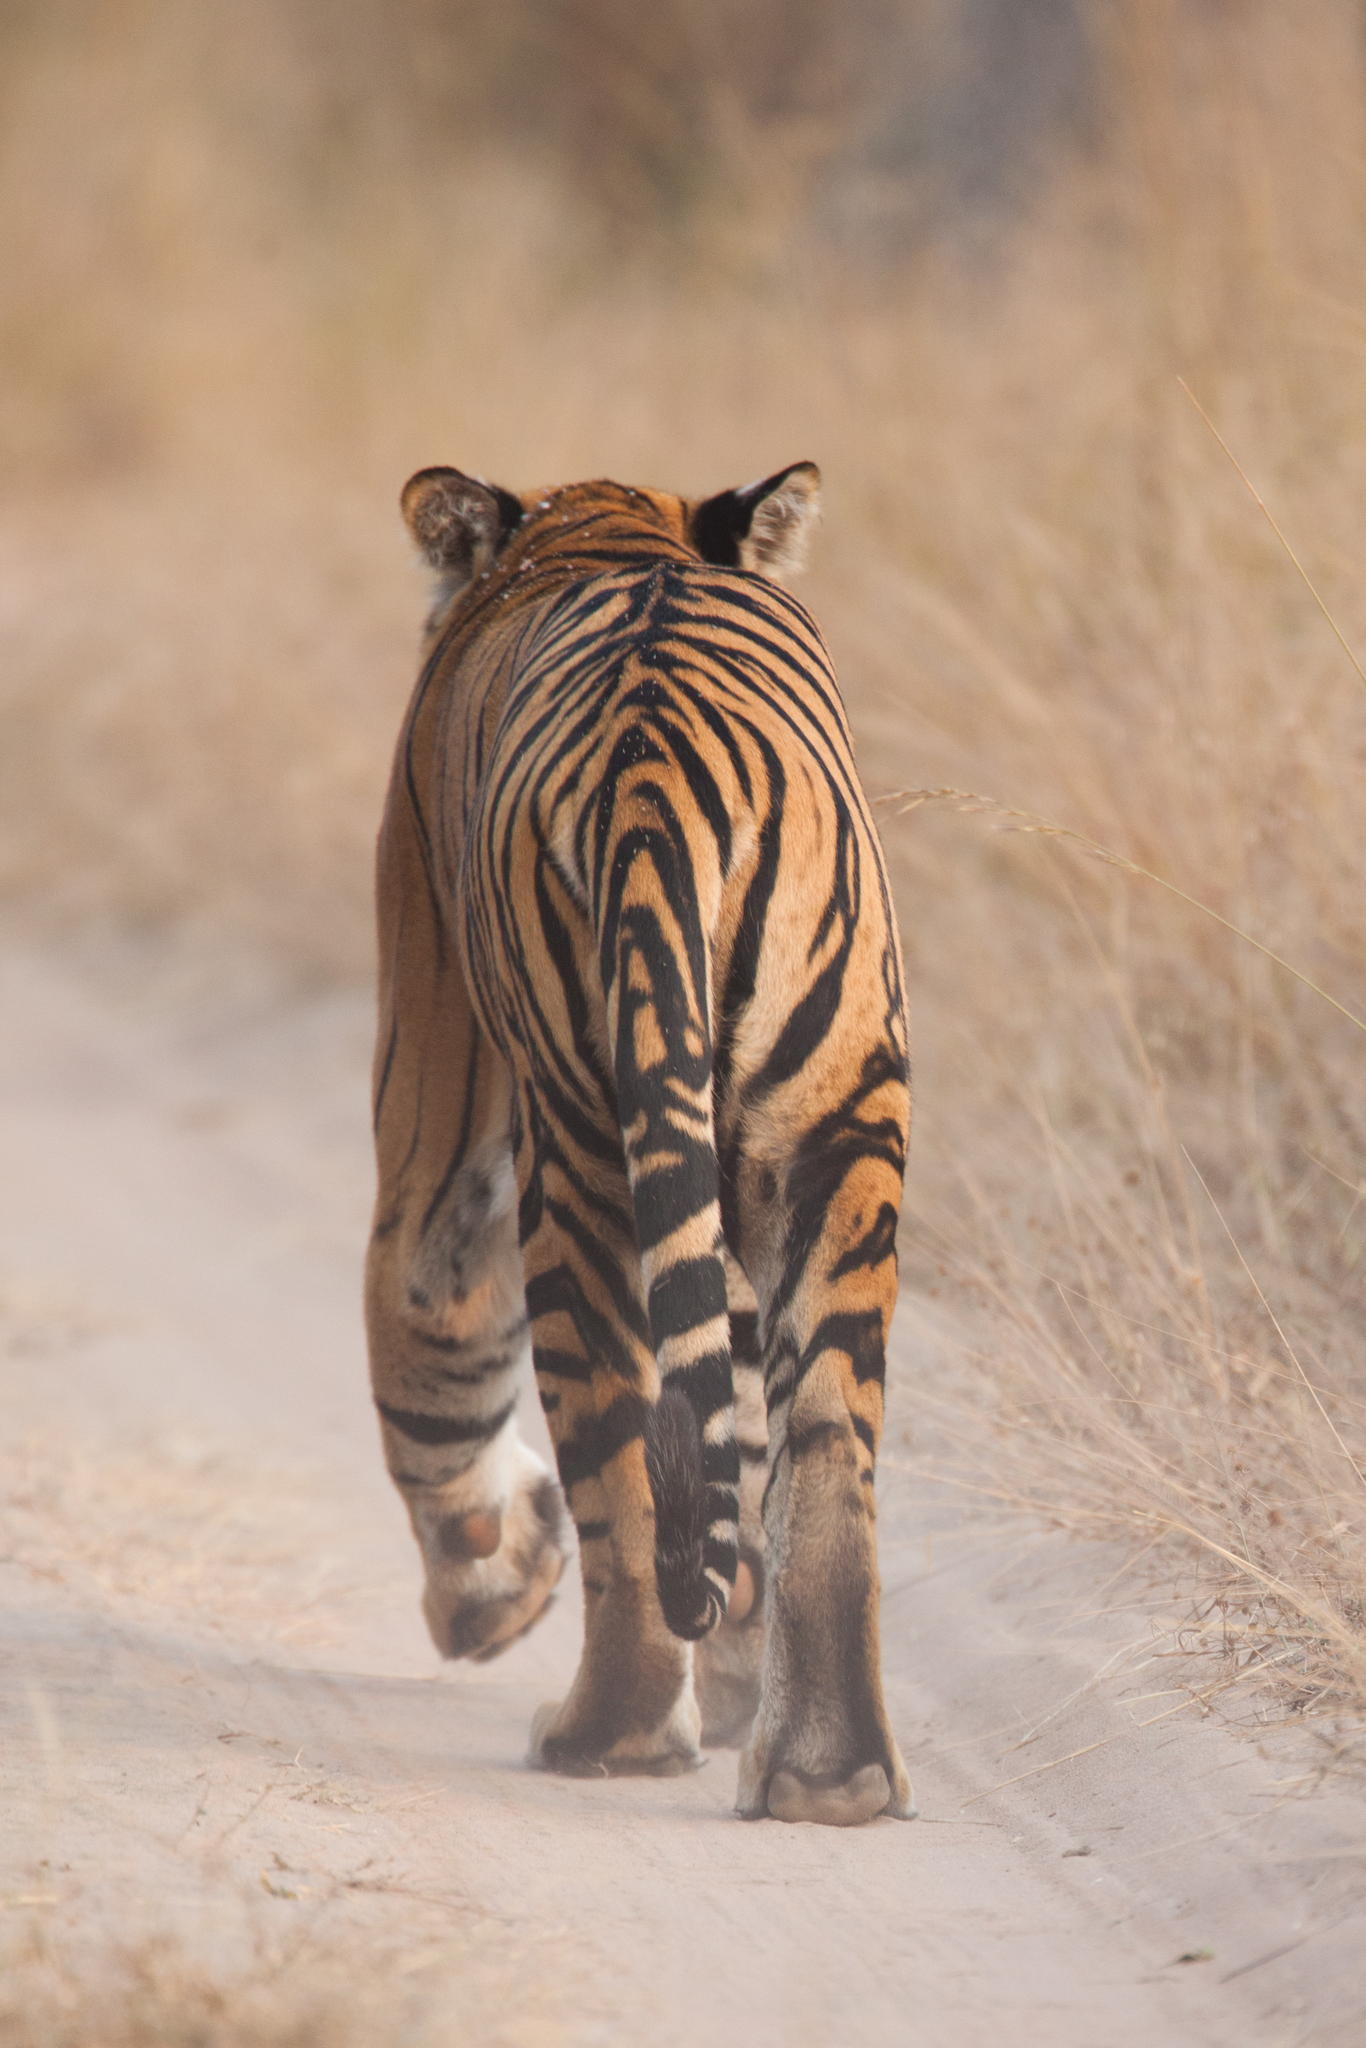tiger: (338, 419, 999, 1880)
